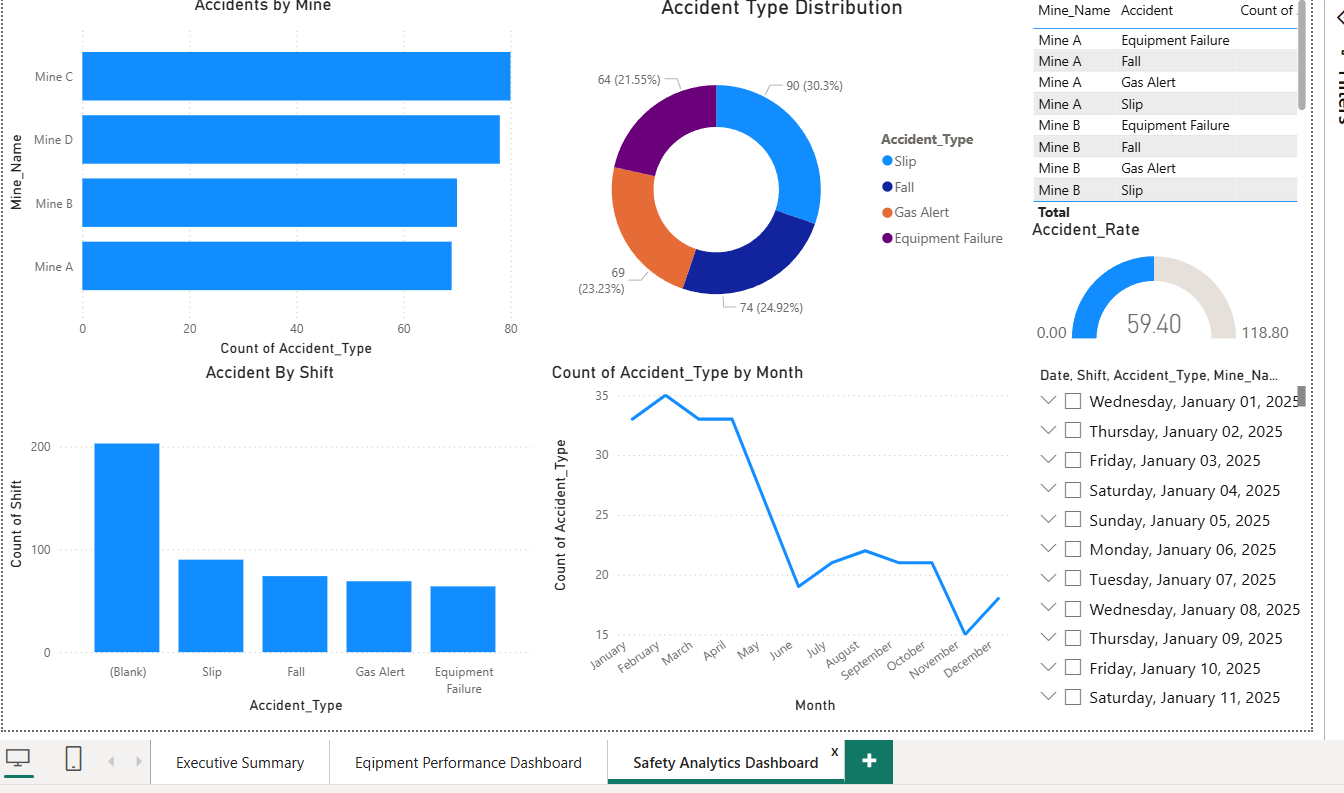

The dashboard page shown, as its layout file describes it:
{"tool":"powerbi","page":{"name":"Safety Analytics Dashboard","canvas":[1280,720],"ordinal":2},"visuals":[{"type":"clusteredBarChart","title":"Accidents by Mine","fields":{"Category":["Mining_Data.Mine_Name"],"Y":["CountNonNull(Mining_Data.Accident_Type)"]},"box":[0,0,508.7,359.5],"z":0},{"type":"columnChart","title":"Accident By Shift","fields":{"Y":["CountNonNull(Mining_Data.Shift)"],"Category":["Mining_Data.Accident_Type"]},"box":[0,359.7,522.1,349.4],"z":1000},{"type":"lineChart","fields":{"Y":["CountNonNull(Mining_Data.Accident_Type)"],"Category":["Mining_Data.Date.Variation.Date Hierarchy.Month"]},"box":[532,360,460,349],"z":2000},{"type":"tableEx","fields":{"Values":["Mining_Data.Mine_Name","Mining_Data.Accident_Type","CountNonNull(Mining_Data.Accident_Type)"]},"box":[1001.5,0,278.8,237.2],"z":3000},{"type":"slicer","fields":{"Values":["Mining_Data.Date","Mining_Data.Shift","Mining_Data.Accident_Type","Mining_Data.Mine_Name"]},"box":[1002,360,278,349],"z":4000},{"type":"gauge","fields":{"Y":["Mining_Data.Accident_Rate"]},"box":[1001.5,220.1,266.6,139.4],"z":5000},{"type":"donutChart","title":"Accident Type Distribution","fields":{"Category":["Mining_Data.Accident_Type"],"Y":["CountNonNull(Mining_Data.Accident_Type)"]},"box":[532,0,460,360],"z":6000}]}

Visuals, with their boxes on the page's 1280x720 design canvas (x1, y1, x2, y2). These are canvas units, not pixel positions in the 1344x793 screenshot, which may show the page scaled, cropped or inside an application window:
"Accidents by Mine" clusteredBarChart: bbox=(0, 0, 509, 360)
"Accident By Shift" columnChart: bbox=(0, 360, 522, 709)
lineChart - CountNonNull(Mining_Data.Accident_Type) x Mining_Data.Date.Variation.Date Hierarchy.Month: bbox=(532, 360, 992, 709)
tableEx - Mining_Data.Mine_Name x Mining_Data.Accident_Type: bbox=(1002, 0, 1280, 237)
slicer - Mining_Data.Date x Mining_Data.Shift: bbox=(1002, 360, 1280, 709)
gauge - Mining_Data.Accident_Rate: bbox=(1002, 220, 1268, 360)
"Accident Type Distribution" donutChart: bbox=(532, 0, 992, 360)
